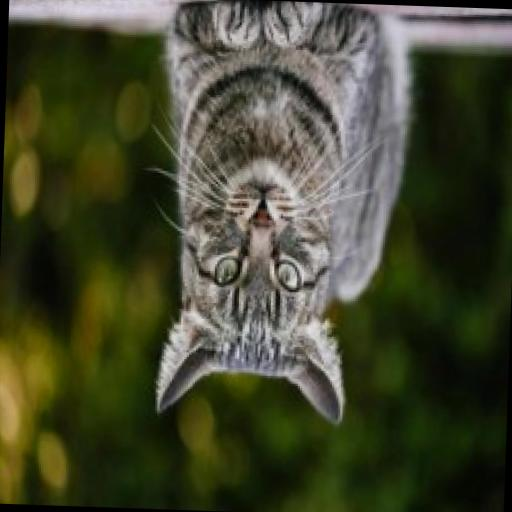cat: (128, 0, 431, 434)
